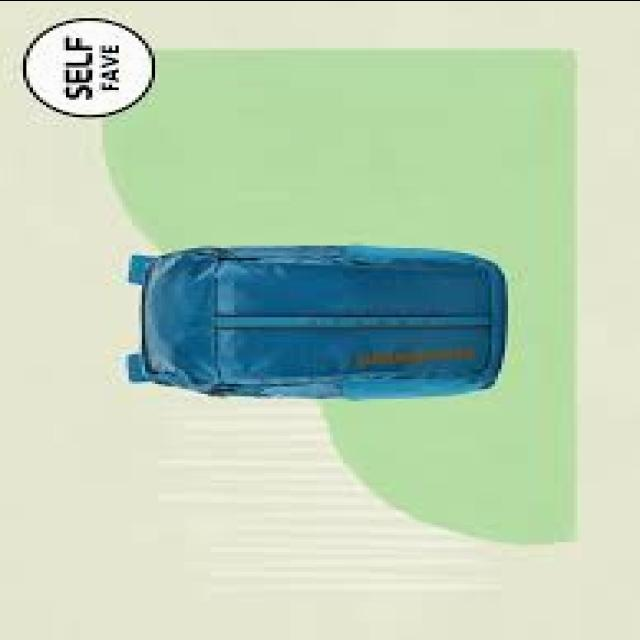backpack: (124, 246, 506, 402)
